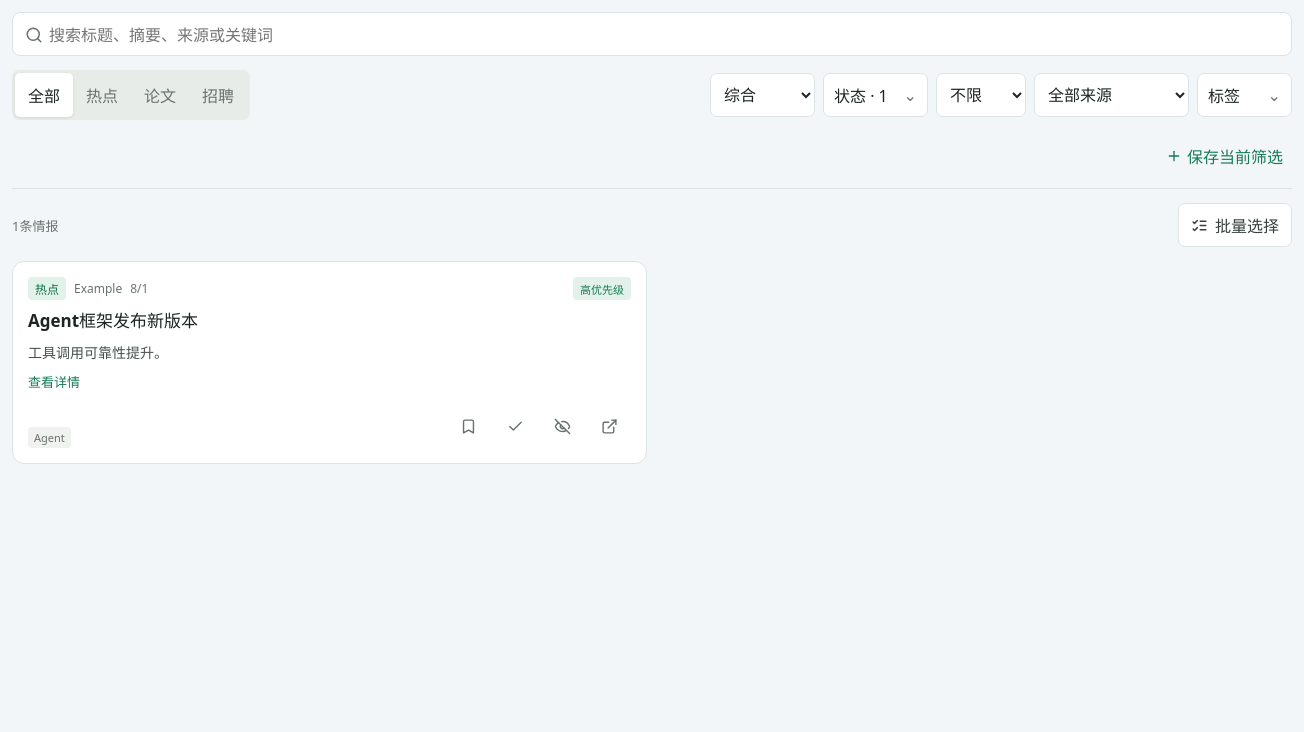
可以将情报标记为已读
Check: the heading "Agent框架发布新版本" is shown, box left=28, top=309, right=198, bottom=332
Click the button named "标记已读": (515, 426) left=493, top=404, right=537, bottom=448
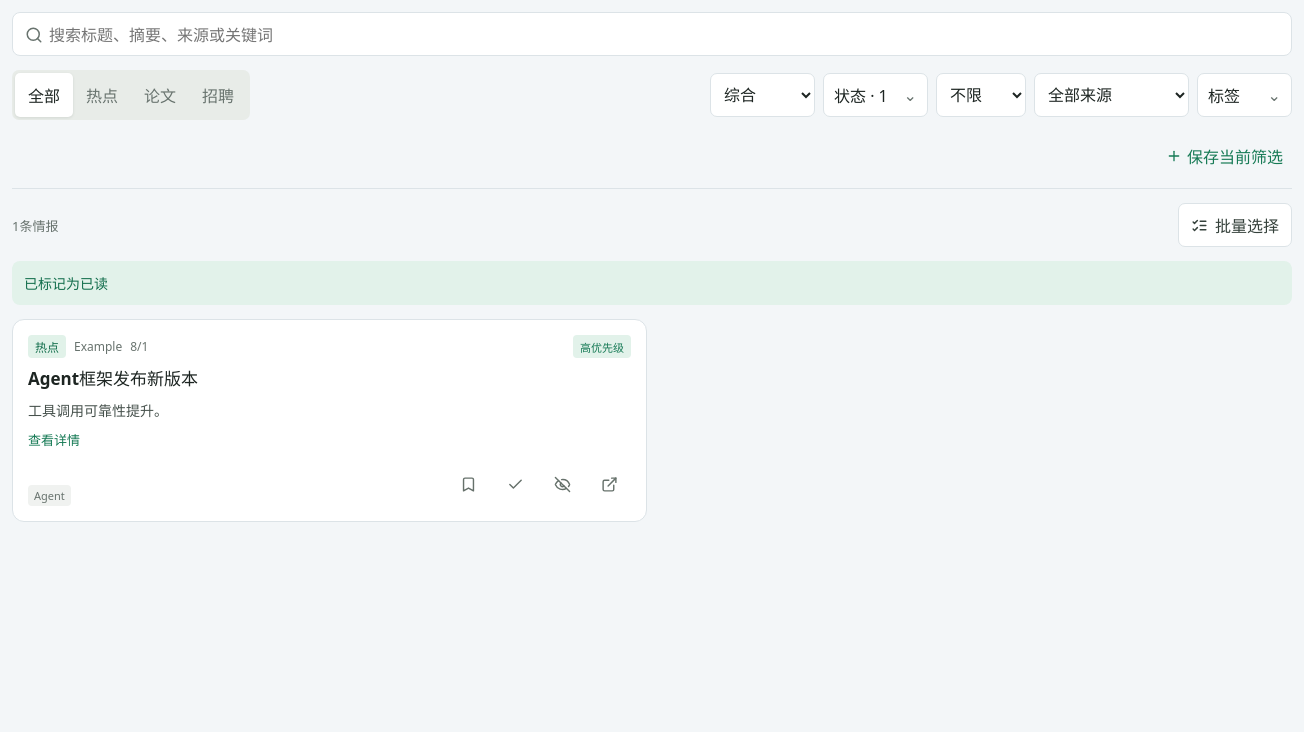
Check: the message reads "已标记为已读", box left=24, top=274, right=108, bottom=293
